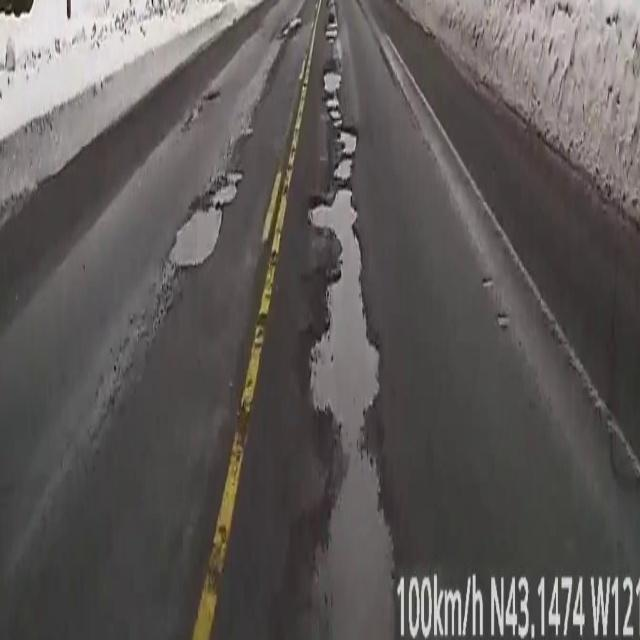pothole: (307, 14, 411, 640), (171, 169, 241, 267)
